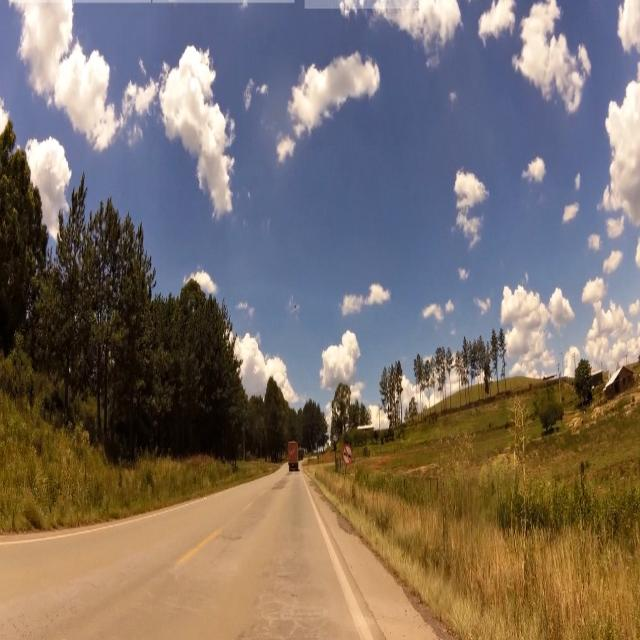R-7: (341, 442, 354, 470)
